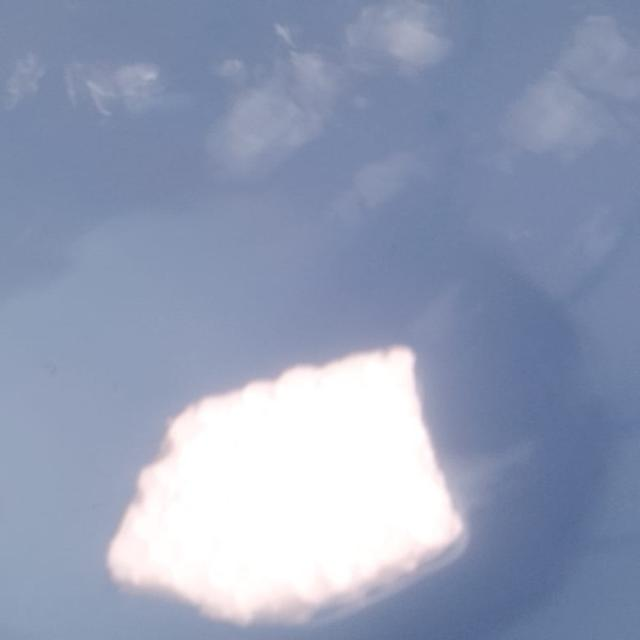thermocoal: (31, 320, 552, 636)
